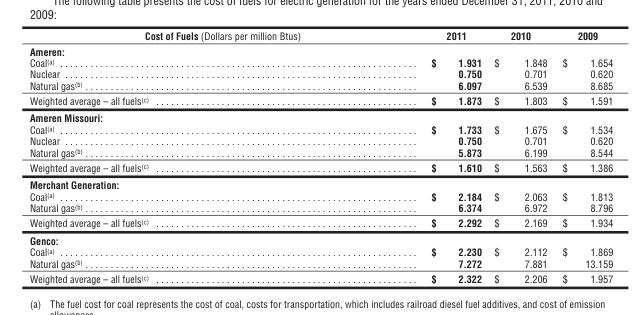table: (28, 29, 612, 284)
table column: (28, 29, 365, 284), (365, 29, 487, 284), (487, 29, 554, 284), (554, 29, 612, 284)
table column header: (28, 29, 612, 43)
table projected row header: (28, 108, 612, 123), (28, 175, 612, 190), (28, 231, 612, 245), (28, 43, 612, 56)
table row: (28, 214, 612, 231), (28, 92, 612, 108), (28, 159, 612, 175), (28, 108, 612, 123), (28, 175, 612, 190), (28, 29, 612, 43), (28, 231, 612, 245), (28, 270, 612, 284), (28, 43, 612, 56), (28, 79, 612, 92), (28, 146, 612, 159), (28, 201, 612, 214), (28, 257, 612, 270), (28, 67, 612, 79), (28, 134, 612, 146), (28, 245, 612, 257), (28, 56, 612, 67), (28, 123, 612, 134), (28, 190, 612, 201)
